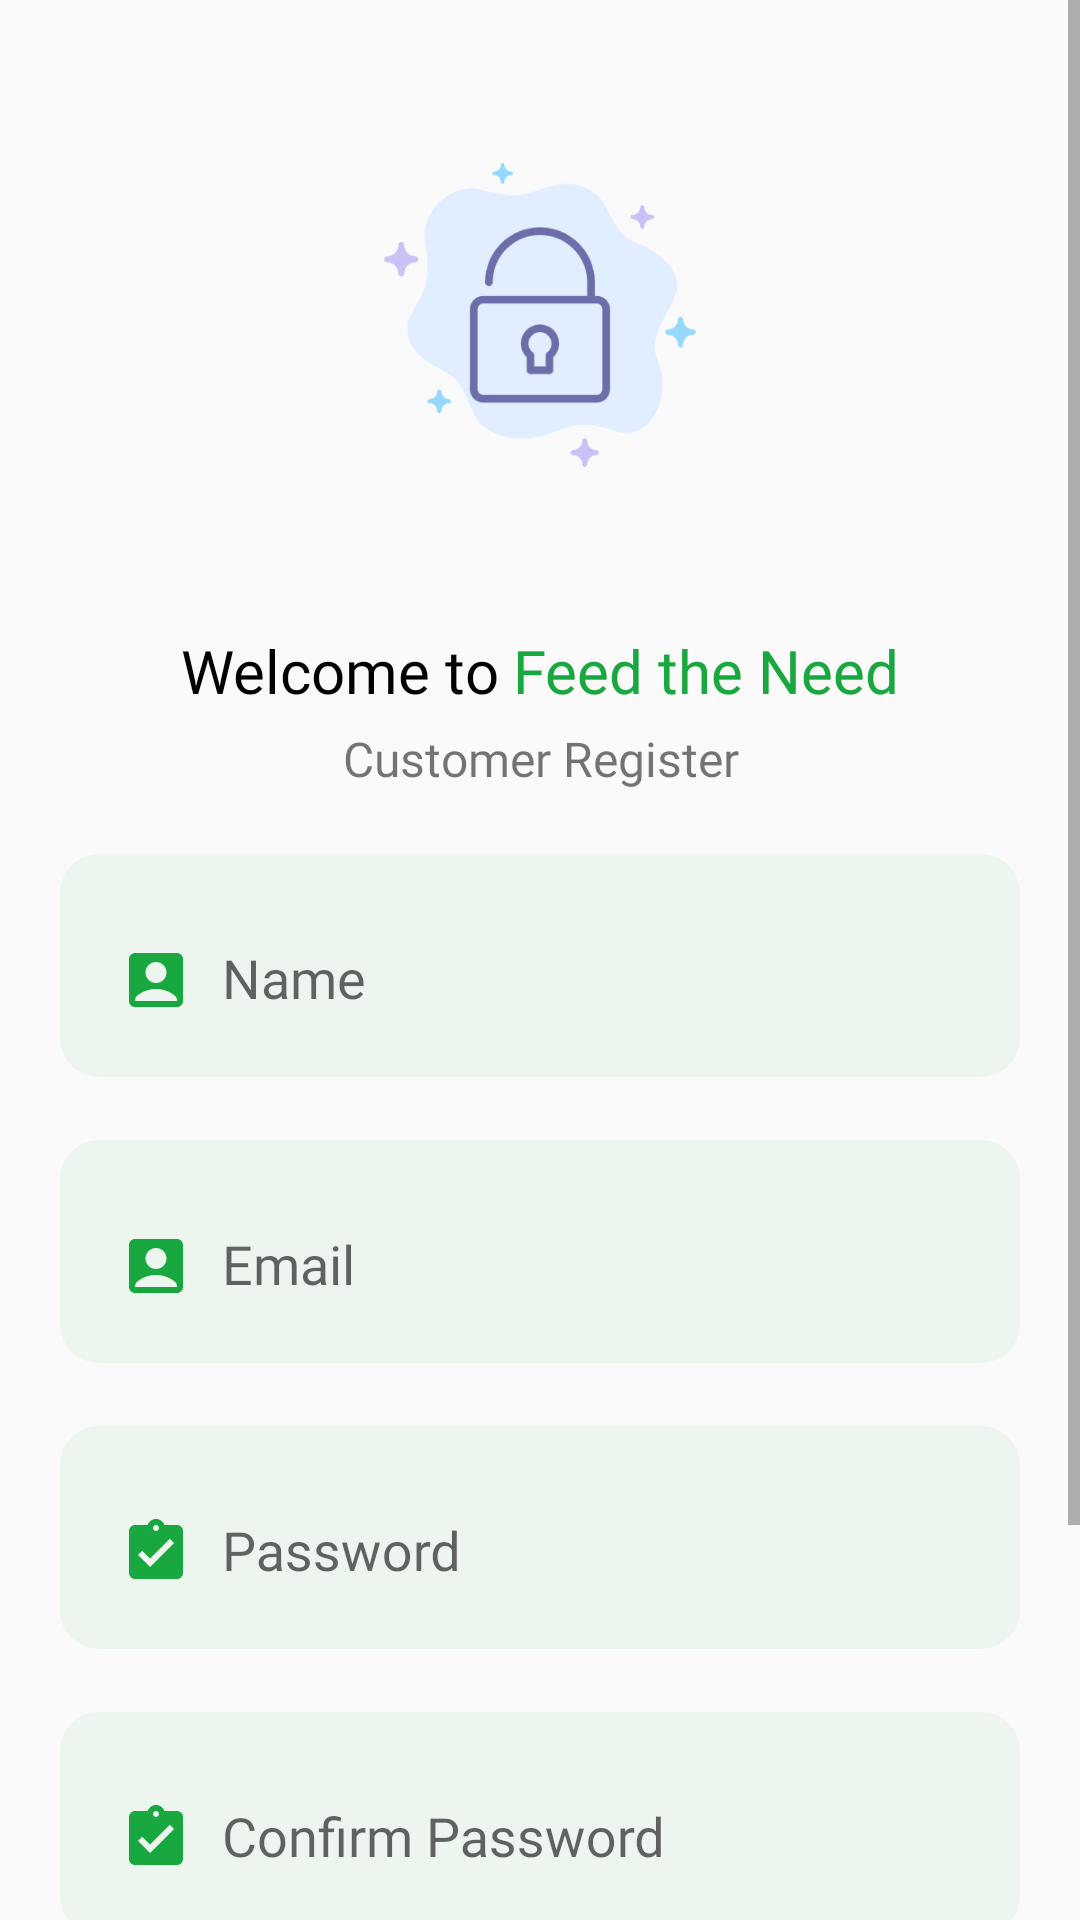

Locate icon controls on the screen. Image size 1080*1920, boxes as (x1, y1, x2, y2).
login: (384, 163, 696, 467)
